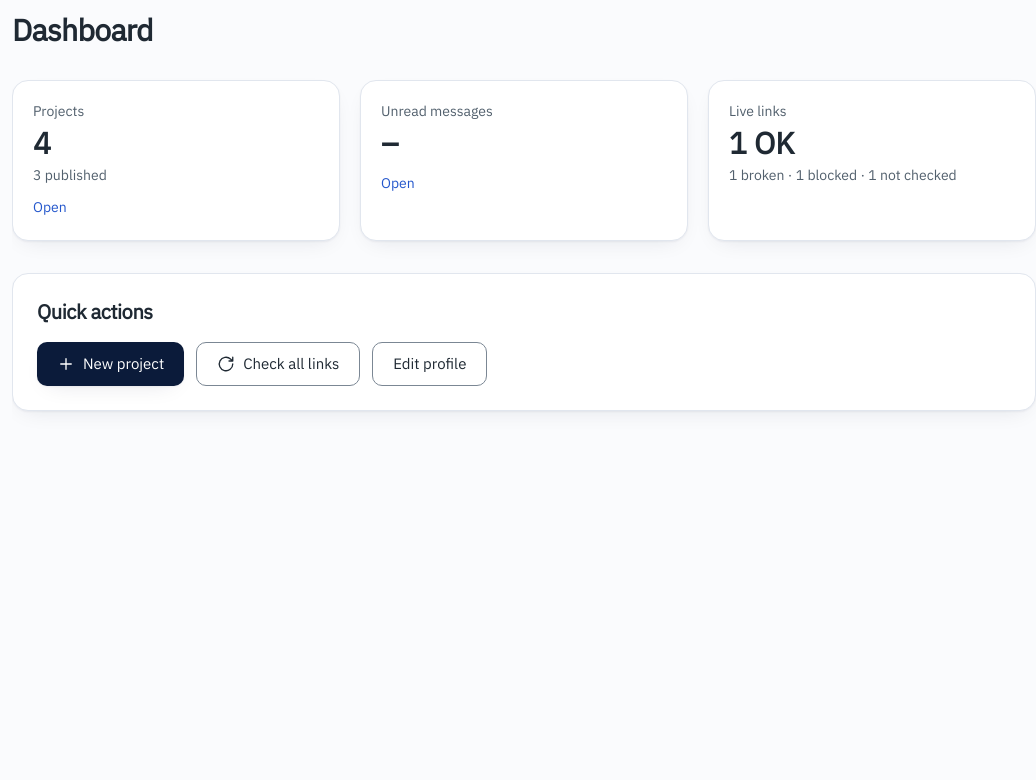
Scenario: DashboardPage › runs a link check from the quick actions and refreshes the numbers
What coordinates should you click on to do the following:
click the button "Check all links"
I would click on:
 (278, 364)
Its box is [196,342,360,386].
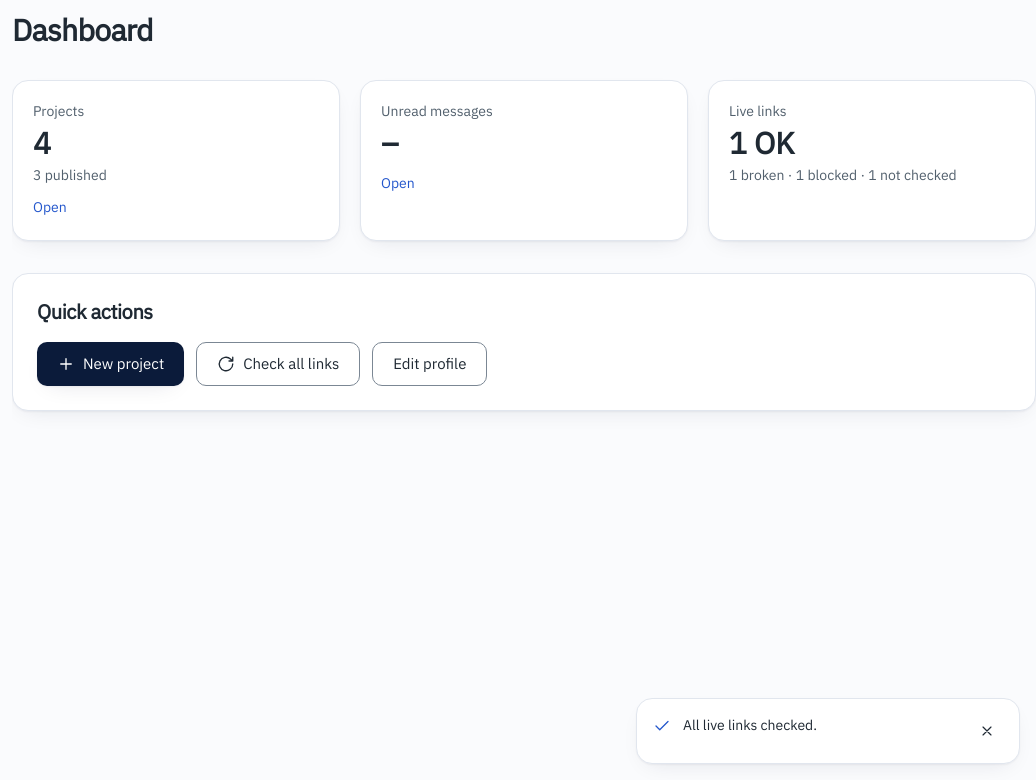
Now the text "All live links checked." is shown, box [683,716,817,734]
